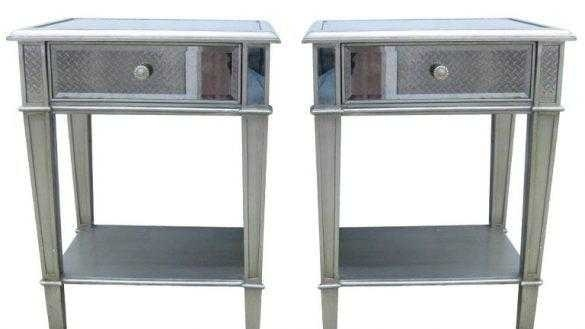obstacle: (303, 18, 574, 327), (7, 18, 278, 327)
